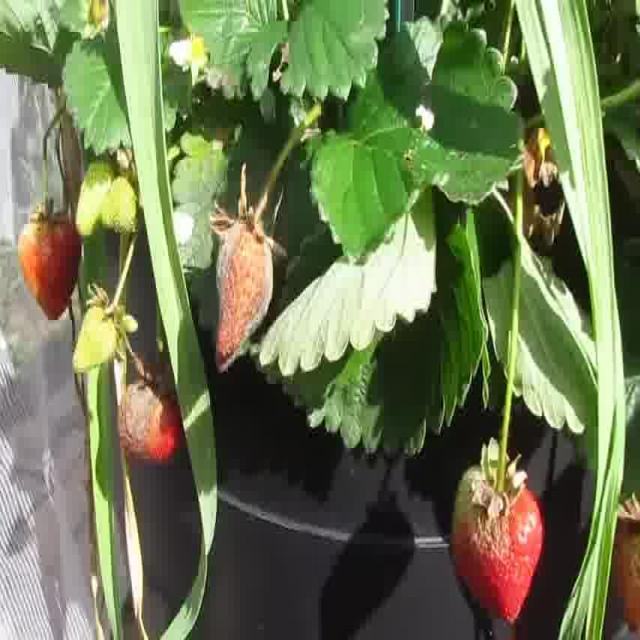Fruta sana: (18, 212, 82, 321), (606, 503, 640, 634), (72, 306, 118, 374), (76, 158, 116, 236), (99, 177, 138, 232), (190, 36, 206, 61)
Moho gris: (452, 464, 544, 627), (216, 219, 276, 372), (119, 371, 181, 462)
